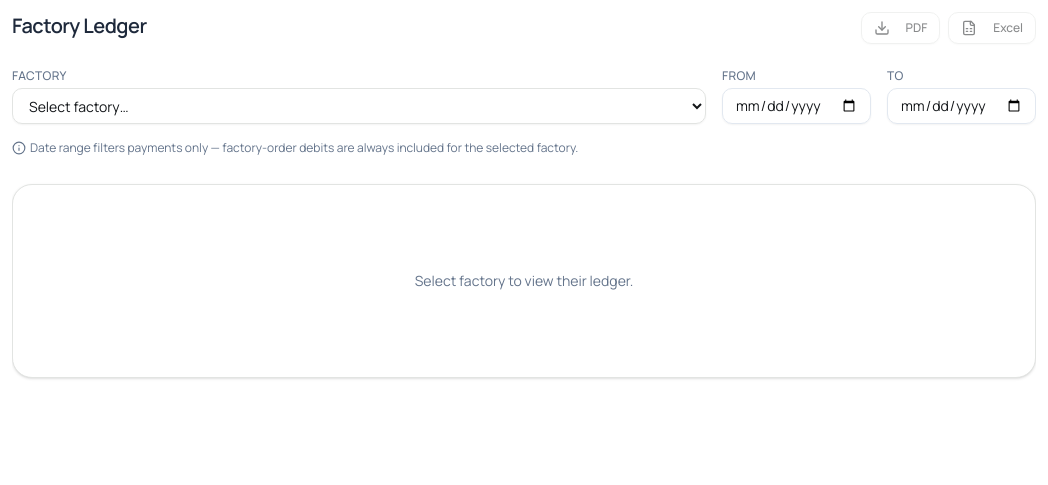
Test case: FactoryLedgerClient › renders ledger rows + totals once data resolves
Select "Acme CNY Inc" in the dropdown labelled "Factory": (359, 106) [12, 88, 706, 124]
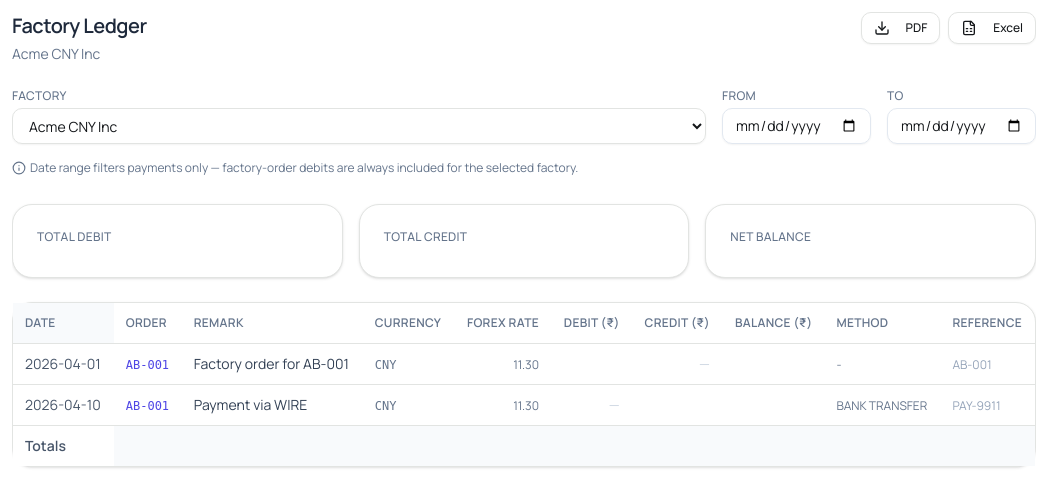
Check: the text "Totals" is shown, box [13, 425, 114, 466]
